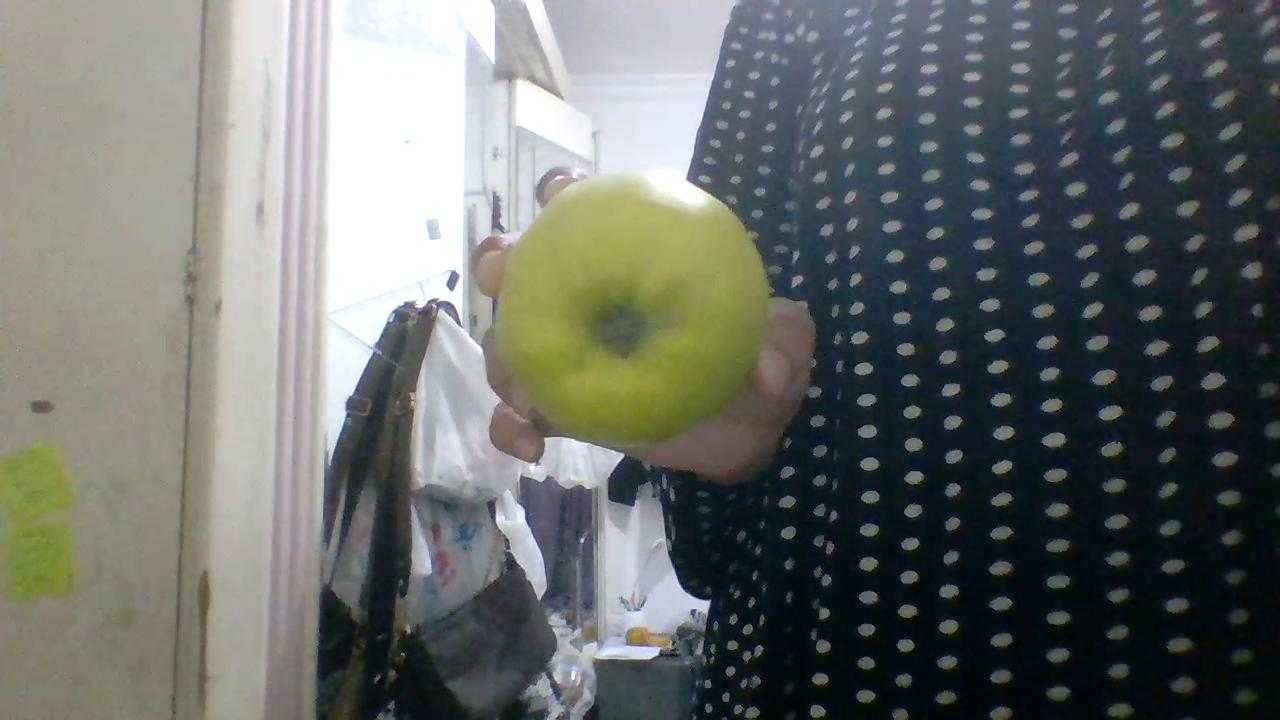fruit: (495, 172, 768, 446)
